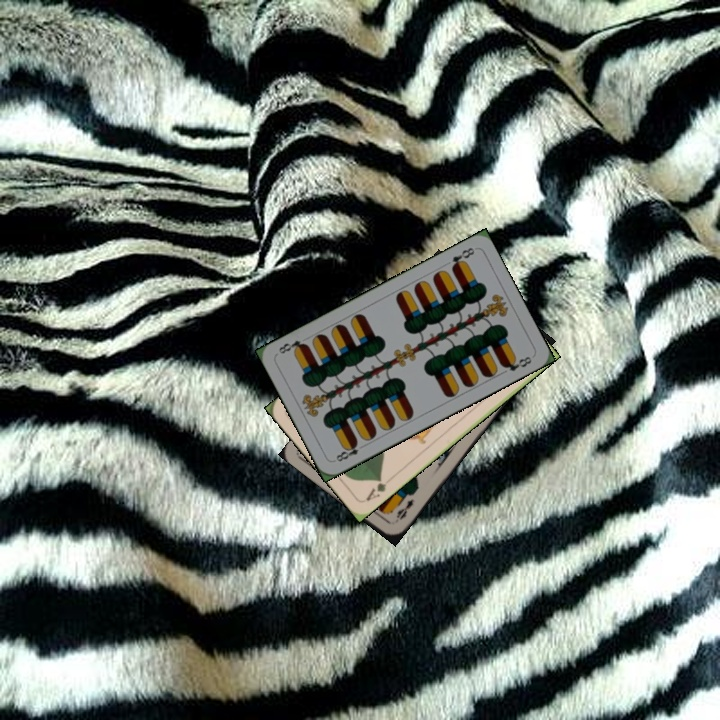E8: (330, 438, 368, 464), (447, 243, 477, 272)
EO: (392, 495, 416, 522)
GA: (362, 474, 389, 504)
